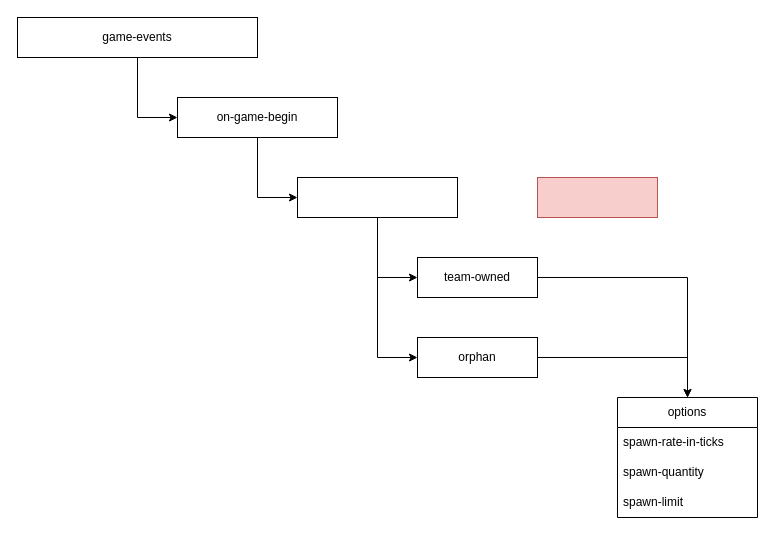
This 775x535 diagram has some shape labels left out. Here are the shapes that lost their labels. From the top down, the centre of each, then its label:
At [377,197]: "generators".
At [597,197]: "where to define arena group?".
